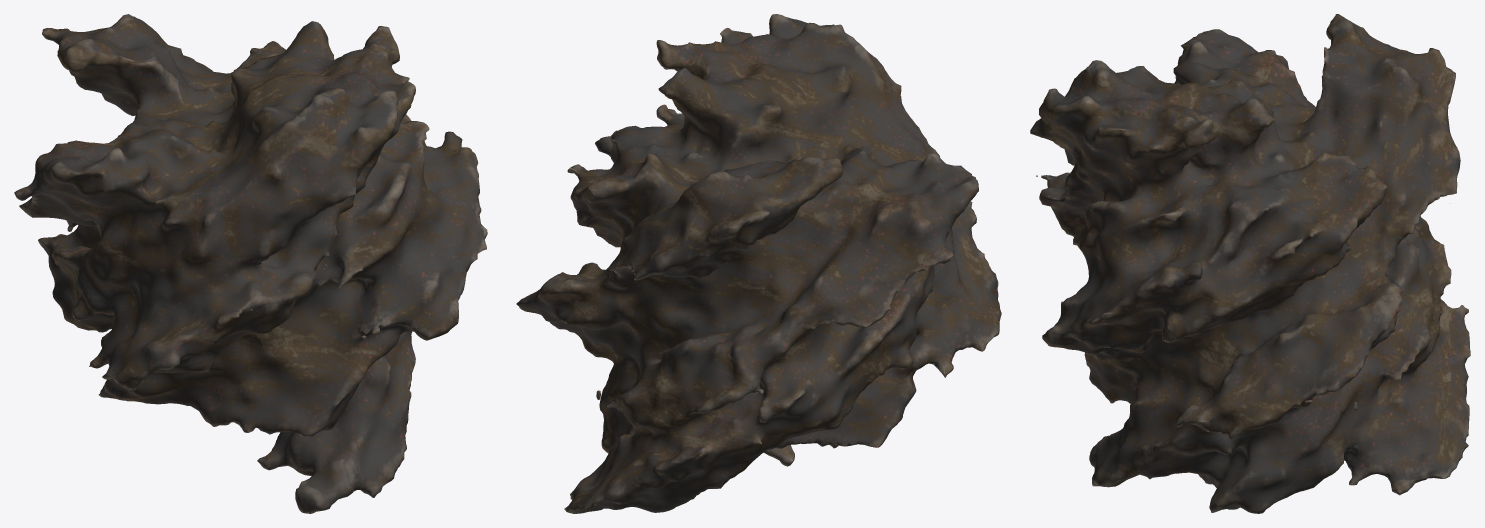
The model's file is big-asteroid.glb.
3 views of the same model, side by side, from view 1: azimuth 30°, elevation 25°; view 2: azimuth 150°, elevation 25°; view 3: azimuth 270°, elevation 25° (orthographic). The views are drawn at different scales.
Parts seen in each view (by area): view 1: Volume_Mesher; view 2: Volume_Mesher; view 3: Volume_Mesher.
Boxes of the visible parts, box(x1,y1,x2,y2) form: Volume_Mesher: box(14, 14, 487, 513); Volume_Mesher: box(516, 14, 1001, 513); Volume_Mesher: box(1030, 14, 1470, 513).
Size of the model in its own units: 3.74 by 3.67 by 3.59.
1 material, 1 textured.
